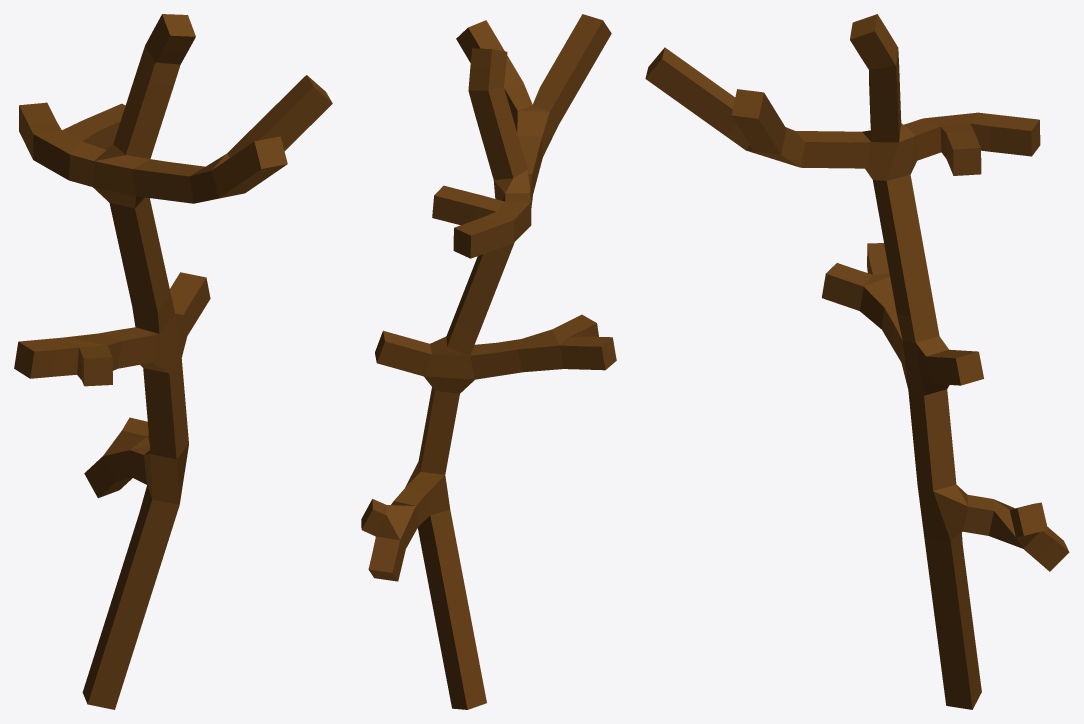
File: DeadTree2.fbx
The picture shows the model from 3 angles, left to right: view 1: azimuth 30°, elevation 25°; view 2: azimuth 150°, elevation 25°; view 3: azimuth 270°, elevation 25°; orthographic projection. The views are drawn at different scales.
Visible parts, largest first — view 1: Plane.015; view 2: Plane.015; view 3: Plane.015.
Boxes of the visible parts, x1,y1,x2,y2 form: Plane.015: (14, 14, 332, 709); Plane.015: (361, 14, 616, 709); Plane.015: (645, 14, 1069, 709).
Bounding box in the file's own units: 314 × 894 × 493.
